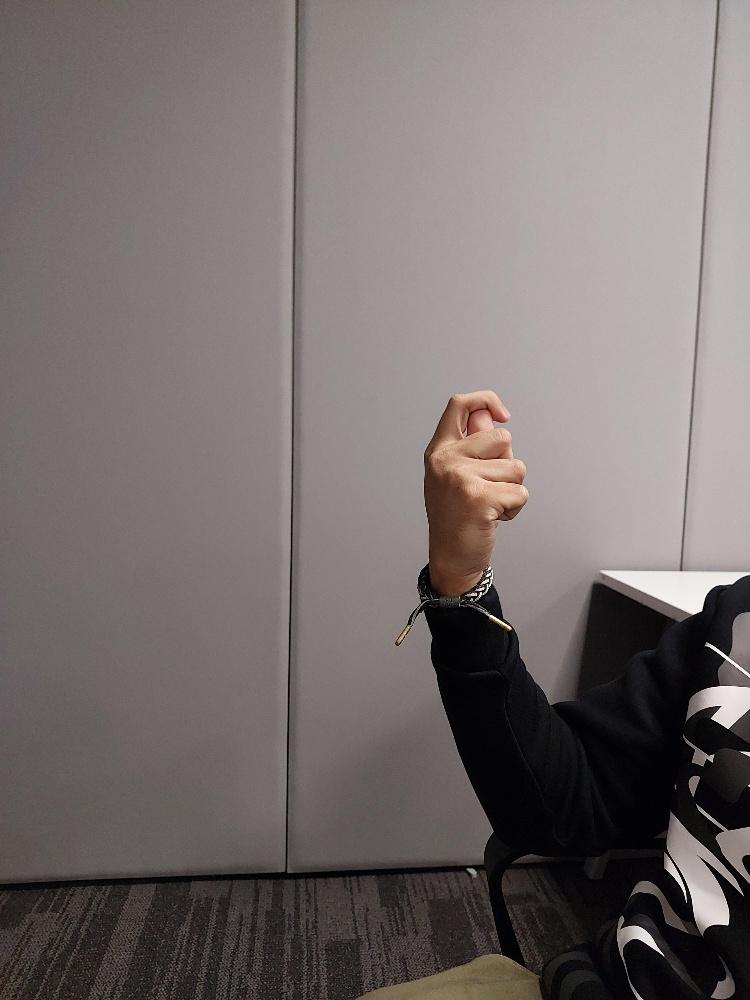t: (422, 388, 529, 577)
